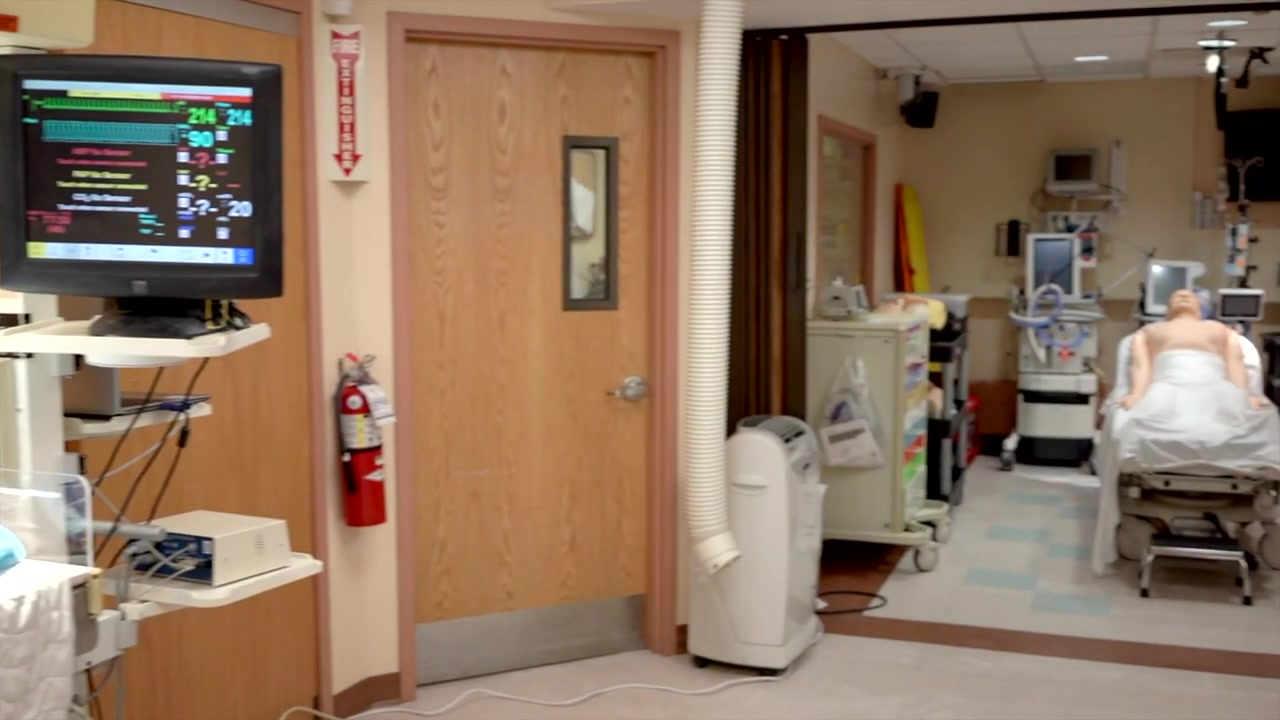TV: (1222, 110, 1280, 203)
bedside_monitor: (1, 54, 286, 298), (1150, 260, 1192, 315), (1050, 151, 1107, 183), (1219, 290, 1264, 320)
breathing_tube: (1008, 282, 1104, 364)
door_handle: (605, 379, 648, 404)
handle: (910, 488, 925, 499), (907, 446, 924, 454), (909, 428, 926, 436), (910, 359, 927, 366)
iv_pole: (1220, 158, 1264, 225)
medical_drawer: (806, 311, 928, 543)
operating_bed: (1111, 289, 1280, 588)
utility_cart: (928, 325, 970, 507)
ventilator: (1016, 232, 1099, 440)
